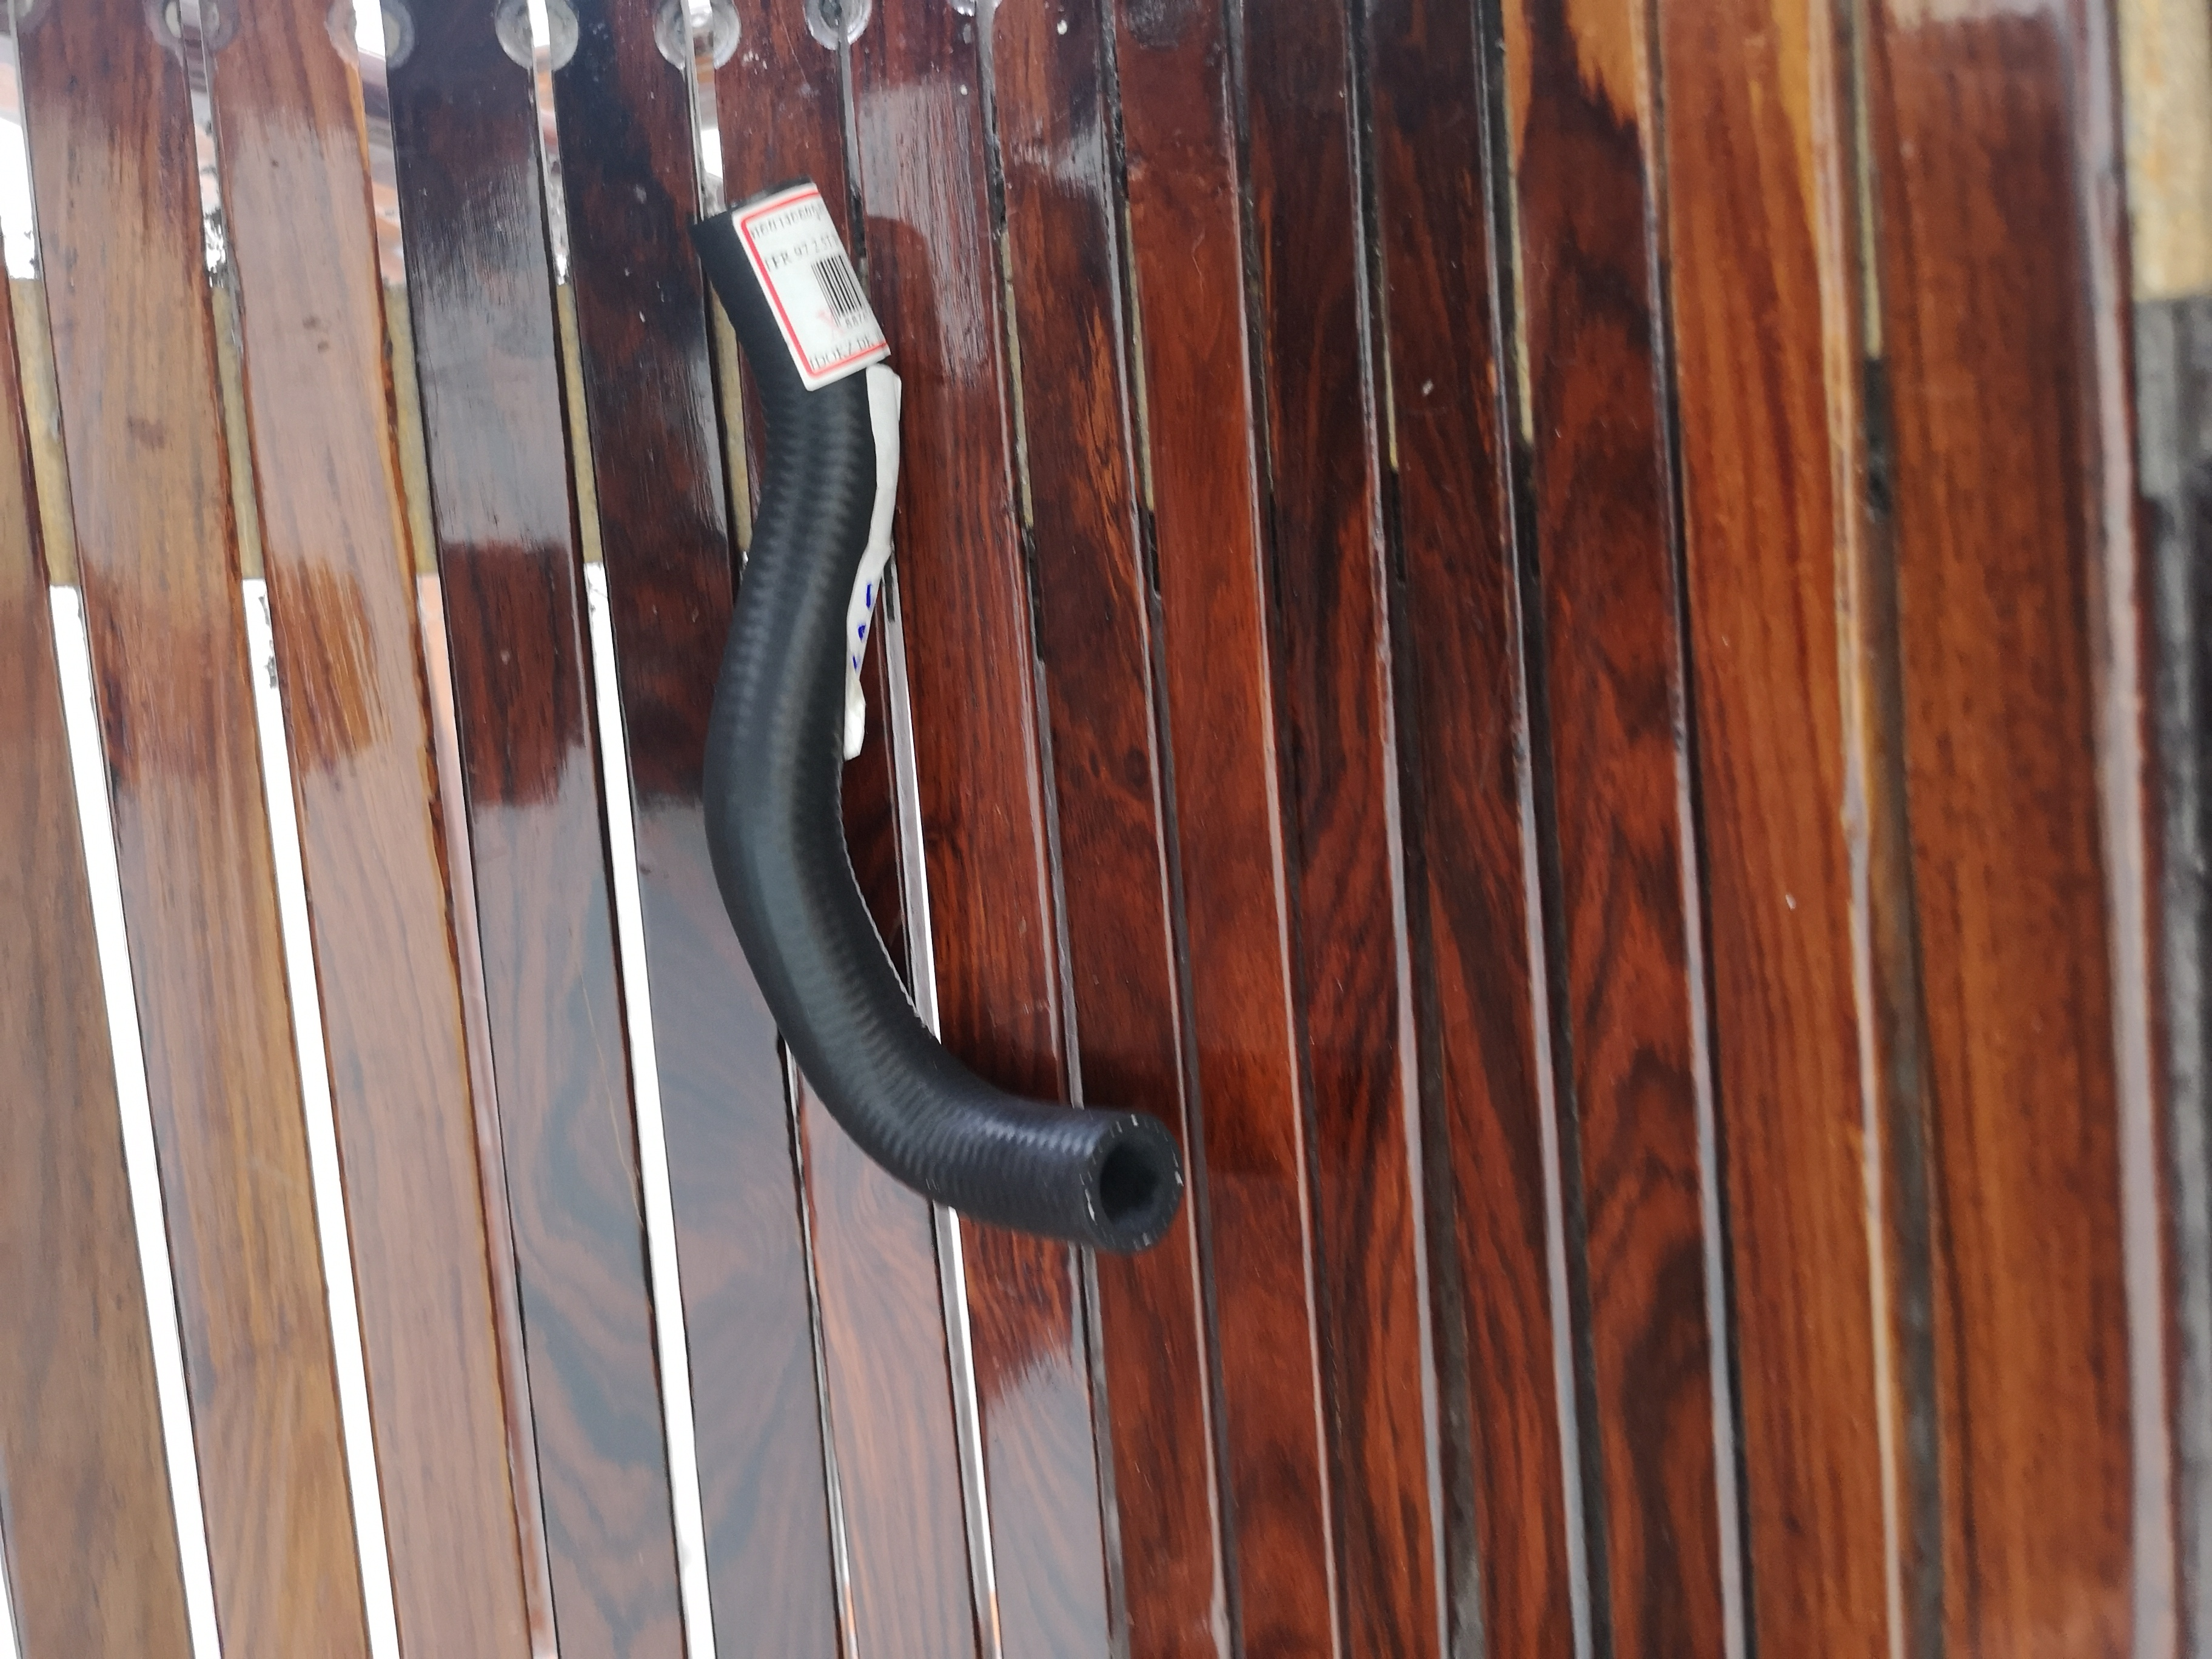ท่อยางน้ำมันเลี้ยงเทอร์โบ: (625, 160, 1217, 1277)
